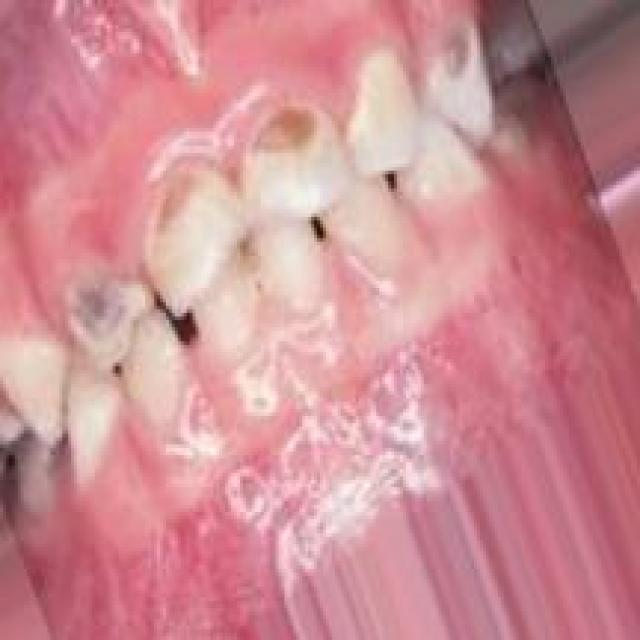caries: (242, 98, 351, 214), (61, 266, 155, 366), (424, 8, 511, 108), (139, 162, 219, 265)
